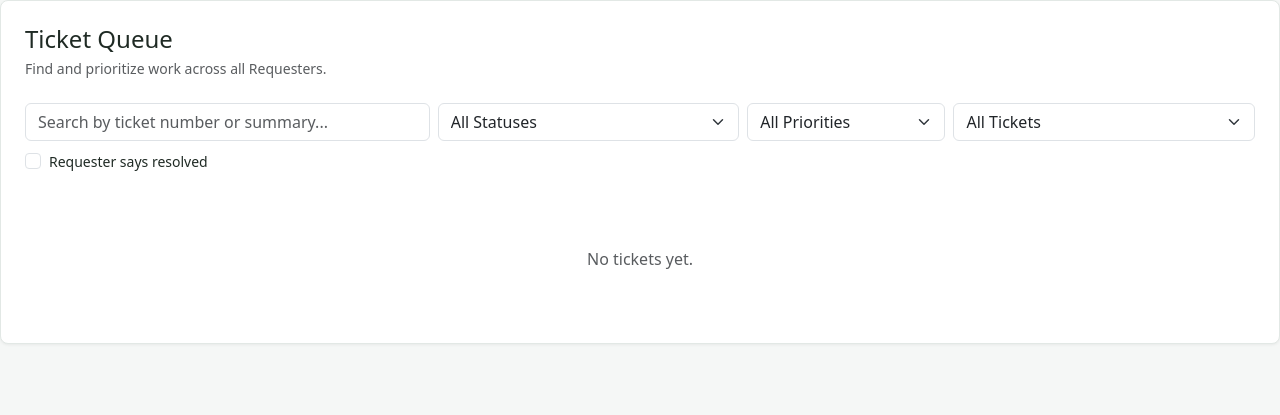
it: StaffTicketQueue (UI-03) › shows a distinct no-results state (not the empty state) when filters yield nothing
Type "nonexistent" into the search field with placeholder "Search by ticket number or summary..." at (227, 122), box [25,103,430,141]
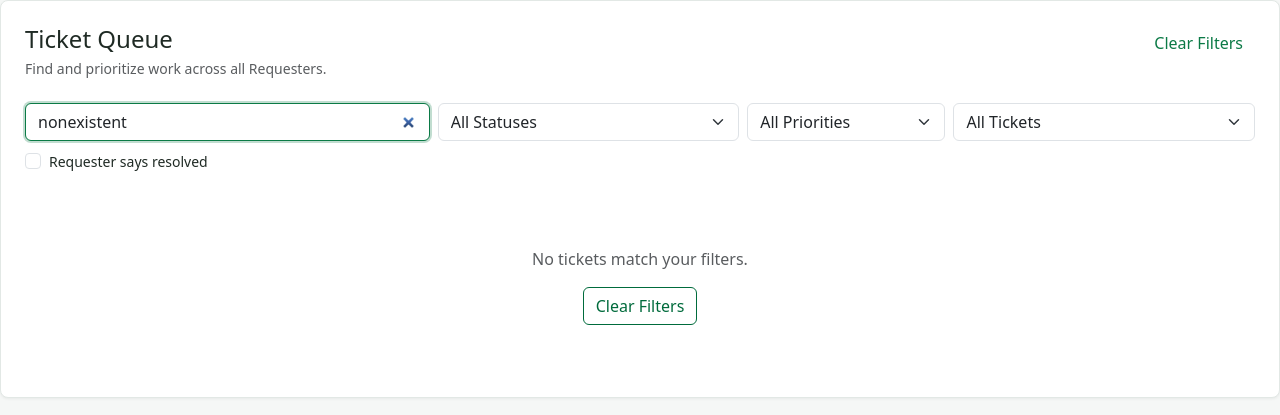
Result: the text "No tickets match your filters." is shown at [532,248,748,270]
Result: the text "No tickets yet" is gone
